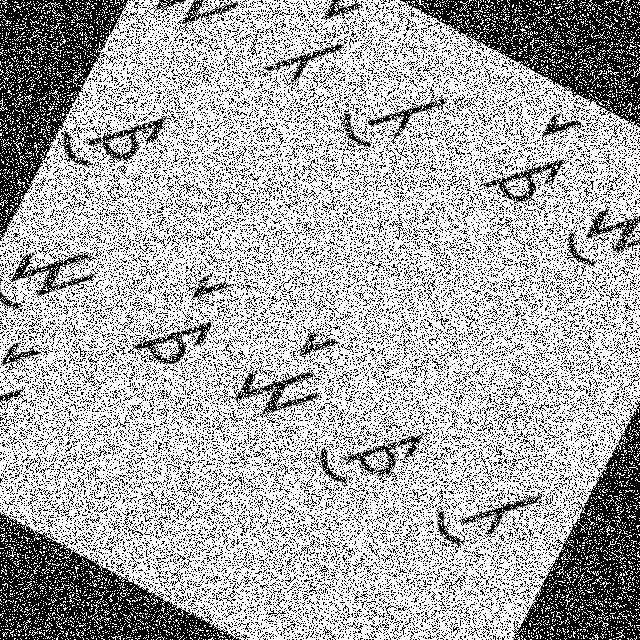bar: (253, 0, 376, 111), (0, 320, 51, 455)
baw: (328, 42, 459, 175), (419, 443, 547, 574)
car: (474, 91, 592, 220), (129, 254, 243, 383)
caw: (46, 67, 185, 205), (307, 387, 433, 516)
mar: (224, 304, 351, 443), (147, 0, 277, 50)
maw: (0, 211, 113, 344), (553, 156, 639, 305)
